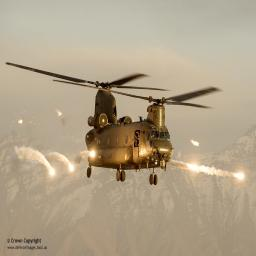helicopter: (5, 63, 226, 183)
